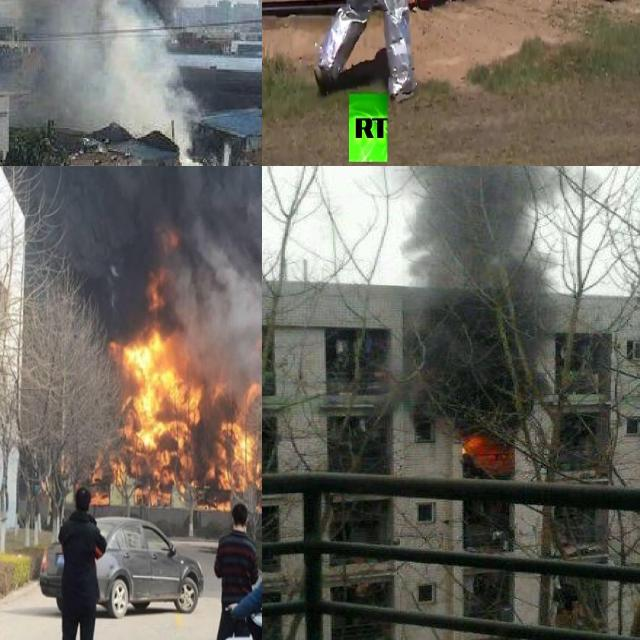fire: (97, 310, 262, 510), (457, 432, 503, 463)
smoke: (0, 166, 262, 408), (384, 166, 596, 427), (0, 0, 238, 141)
